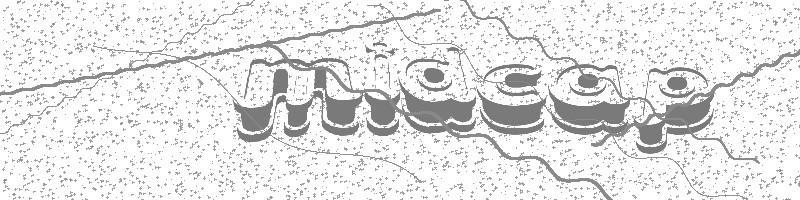a: (548, 64, 630, 136)
c: (478, 64, 546, 134)
d: (400, 46, 477, 133)
i: (364, 43, 400, 136)
m: (235, 59, 362, 142)
p: (636, 68, 713, 154)
